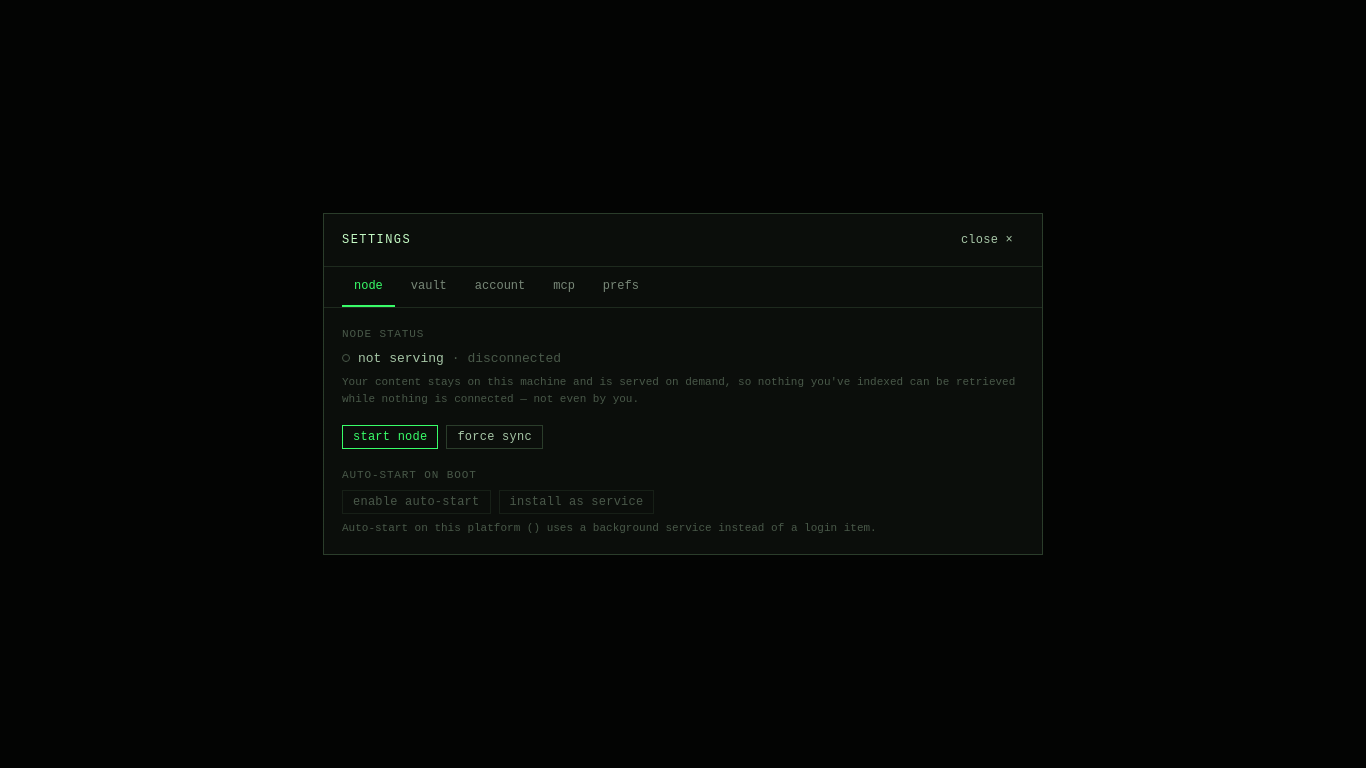
Test: Settings · theme › defaults to dark
This screenshot has width=1366, height=768.
Click the text "prefs" at [621, 286], box [603,279,639,293]
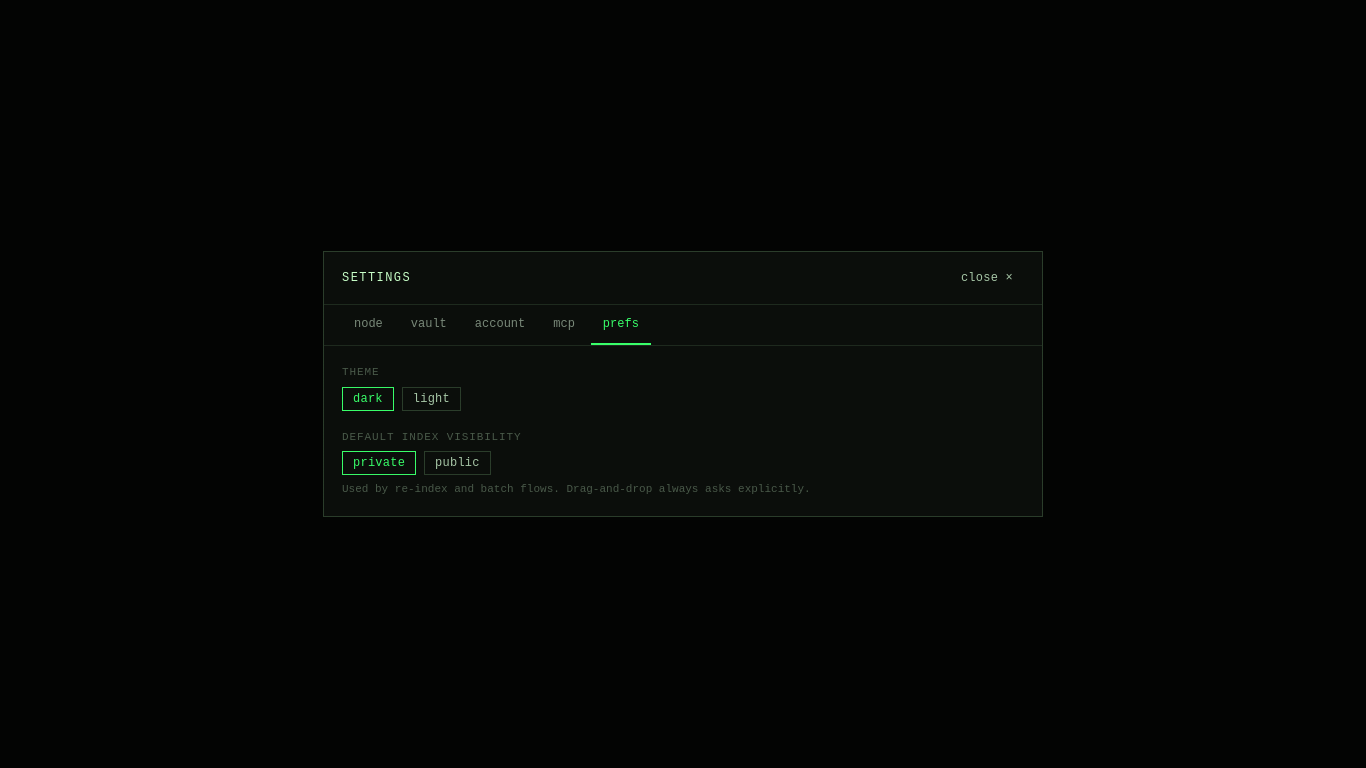
Check: the button "dark" is shown, box [342,387,394,411]
